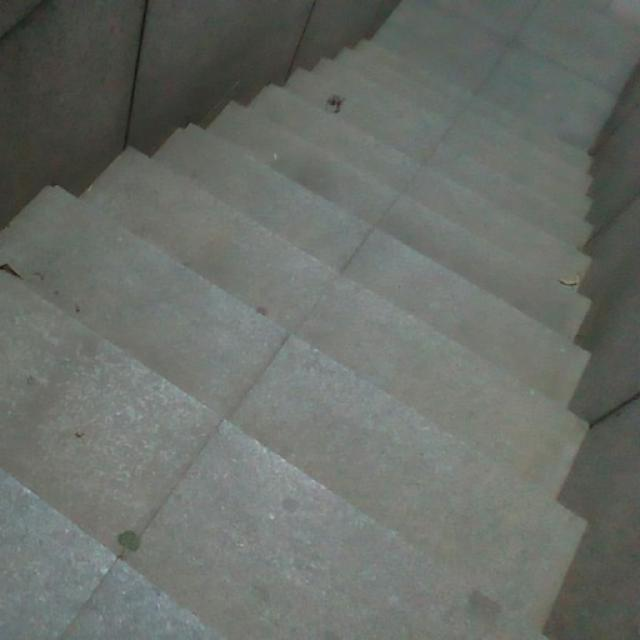stair: (10, 59, 601, 588)
